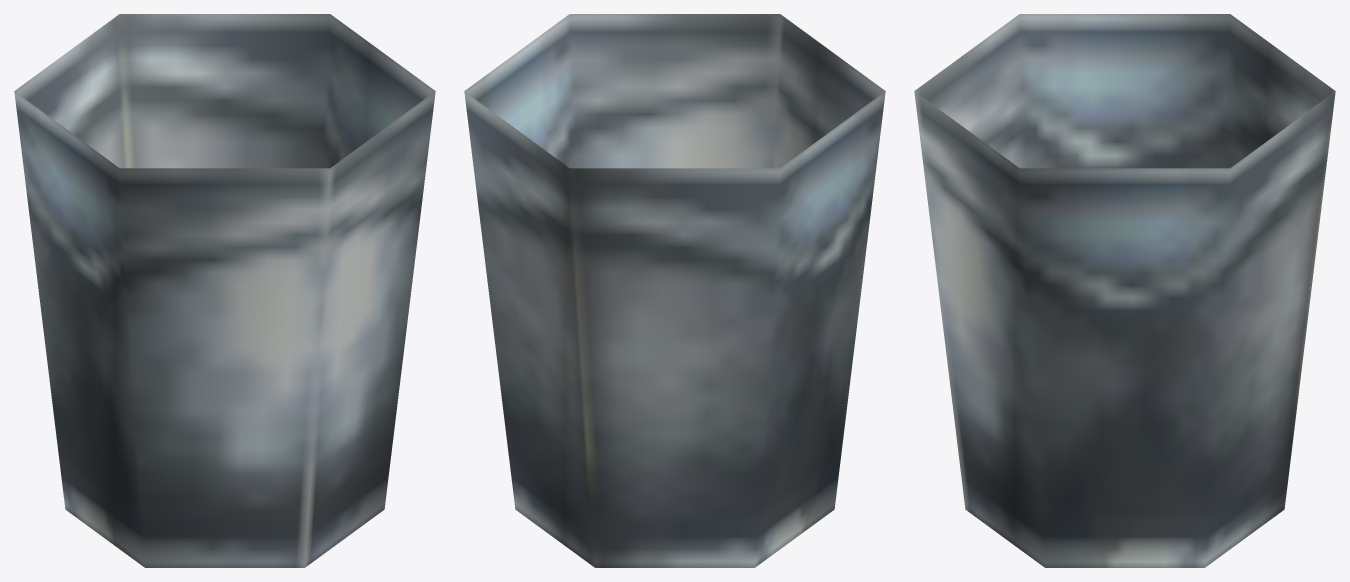
Rendered from armorbracerblue.glb.
3 renders of one model, left to right at view 1: azimuth 30°, elevation 25°; view 2: azimuth 150°, elevation 25°; view 3: azimuth 270°, elevation 25°, orthographic.
Bounding box in the file's own units: 0.1659 × 0.2099 × 0.1916.
1 material, 1 textured.
